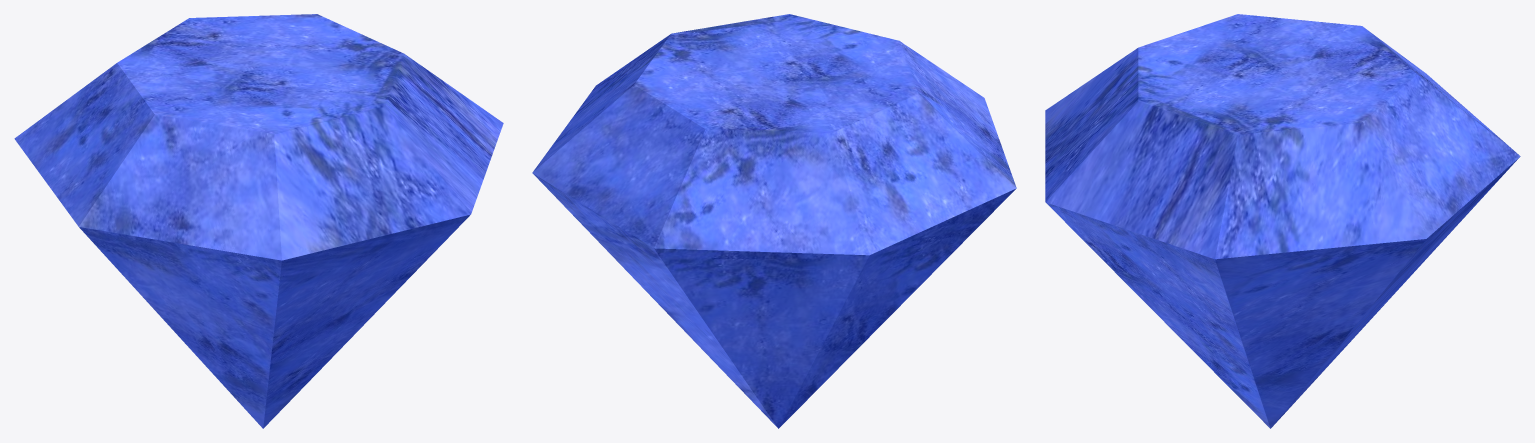
Rendered from crystal.glb.
3 renders of one model, left to right at view 1: azimuth 30°, elevation 25°; view 2: azimuth 150°, elevation 25°; view 3: azimuth 270°, elevation 25°, orthographic.
Parts seen in each view (by area): view 1: crystal; view 2: crystal; view 3: crystal.
Boxes of the visible parts, bbox=[...] form: crystal: bbox=[14, 14, 503, 428]; crystal: bbox=[532, 14, 1016, 428]; crystal: bbox=[1045, 14, 1520, 428].
Bounding box in the file's own units: 0.3977 × 0.3191 × 0.3877.
1 material, 1 textured.
